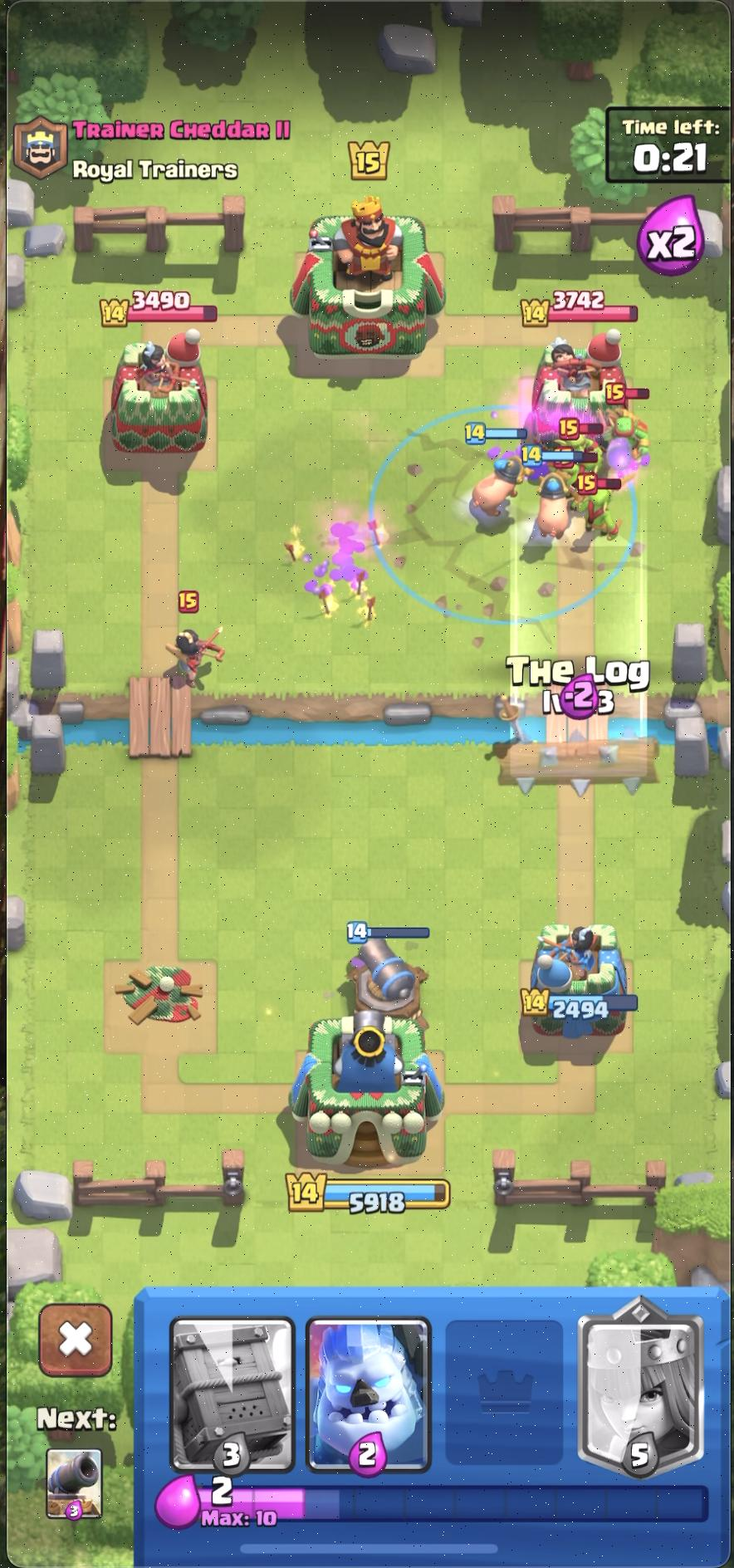card_archerqueen: (576, 1292, 711, 1476)
card_cannon: (41, 1444, 113, 1528)
card_icegolem: (301, 1310, 433, 1483)
card_royaldelivery: (165, 1312, 298, 1475)
